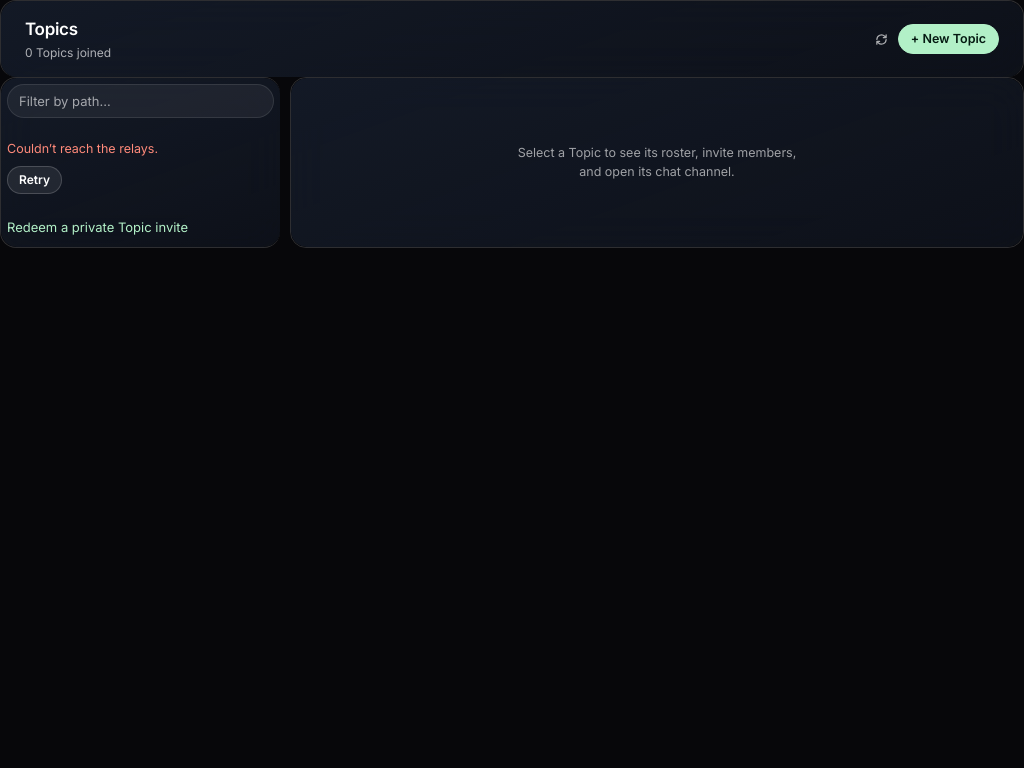
Test: owner feedback #7 — Redeem is hidden unless an invite is actually pending › pending invite: the button renders and still opens the W8 consent modal
Click the button "Redeem a private Topic invite": (98, 228) [7,214,188,241]
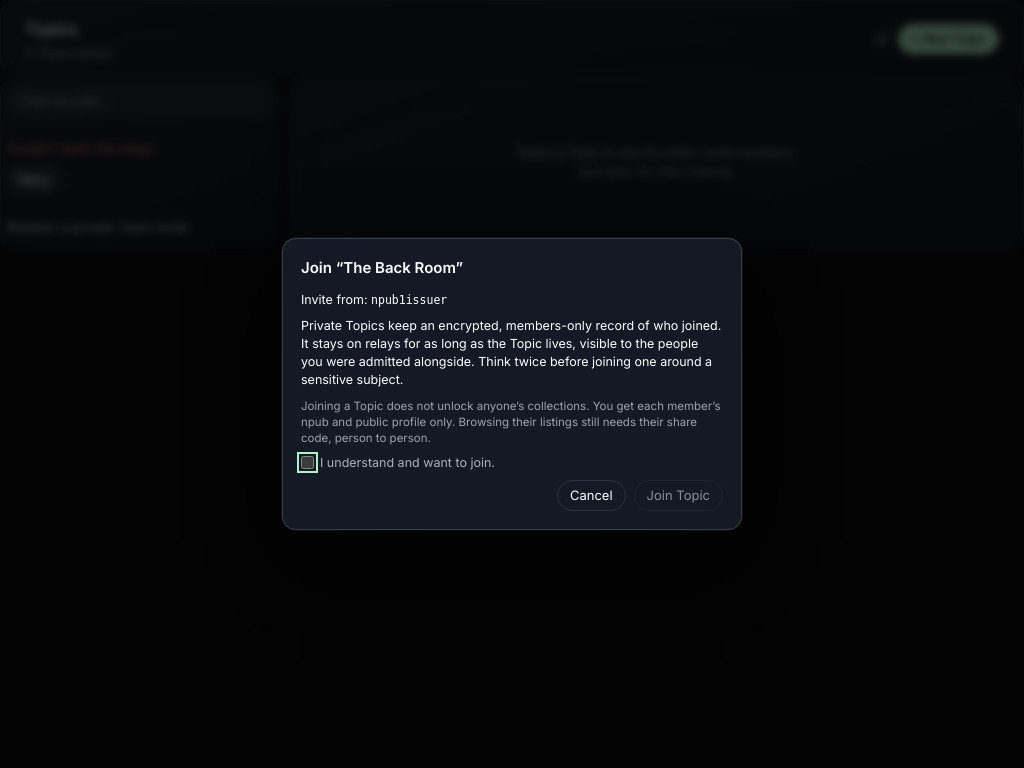
Now the heading "Join “The Back Room”" is shown, box [301,258,463,277]
